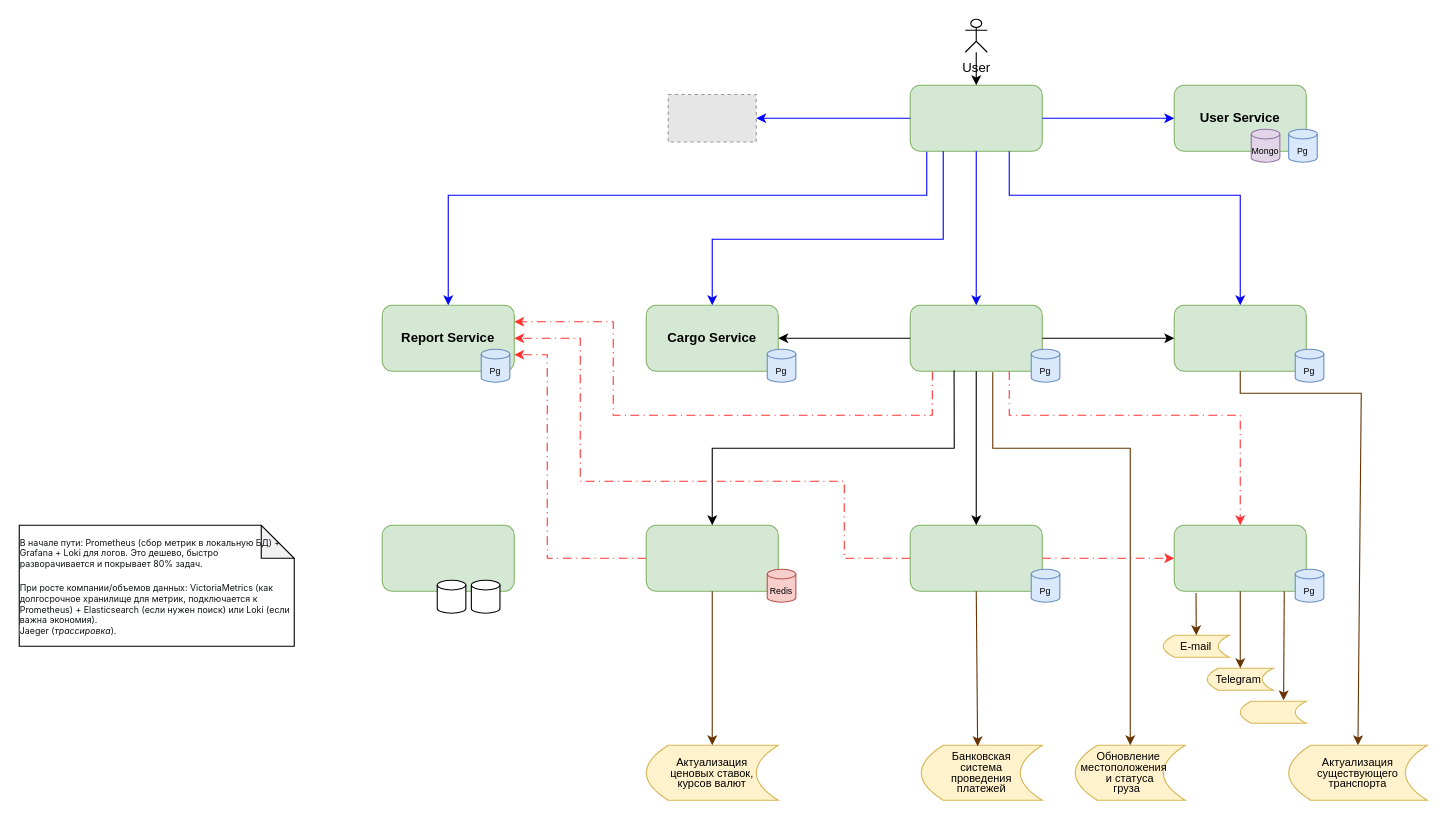
This 1447x820 diagram has some shape labels left out. Grey dashed boxes stand in for pictures. Here are the shapes that lost their labels. From the top down, the centre of each, then its label:
At (x=975, y=117): "API Getway".
At (x=975, y=337): "Delivery Service".
At (x=1239, y=337): "Transport Service".
At (x=447, y=557): "Monitoring Service".
At (x=711, y=557): "Cost Calculation Service".
At (x=975, y=557): "Paymant Service".
At (x=1239, y=557): "Notification Service".
At (x=1272, y=711): "SMS".
